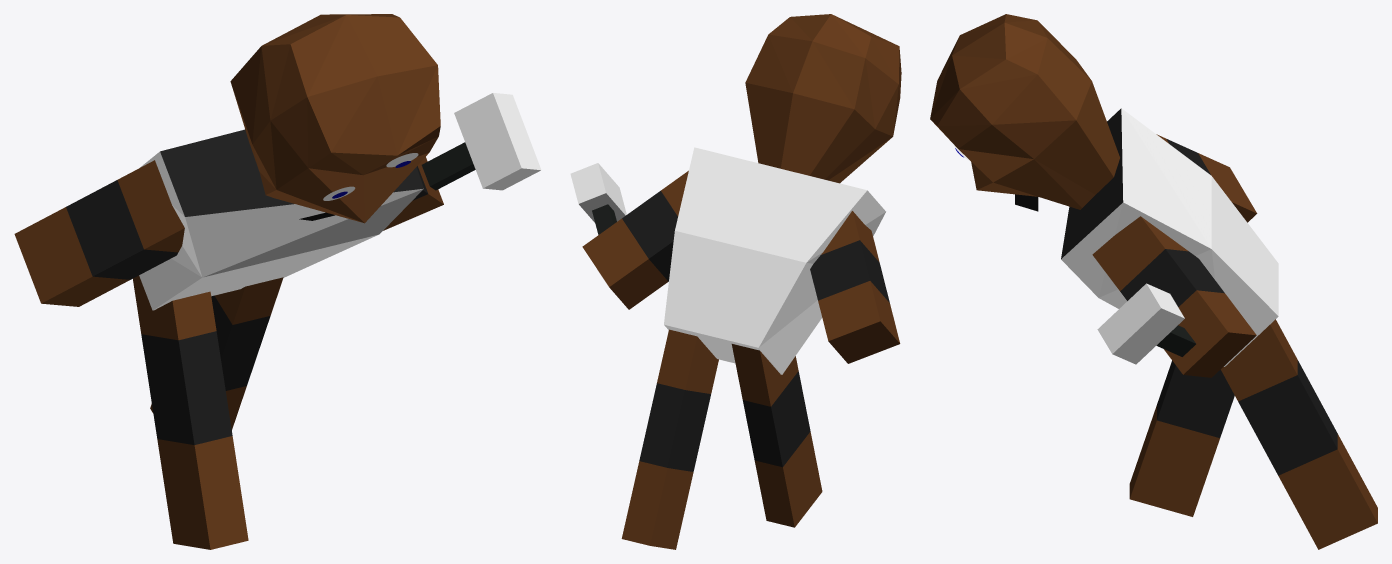
Rendered from slave1d.obj.
The picture shows the model from 3 angles, left to right: view 1: azimuth 30°, elevation 25°; view 2: azimuth 150°, elevation 25°; view 3: azimuth 270°, elevation 25°; orthographic projection. The views are drawn at different scales.
Visible parts, largest first — view 1: Cube, Cube.001, Cube.004, Cube.003, Cube.008, Cube.005, Cube.007, Cube.002; view 2: Cube.001, Cube, Cube.005, Cube.004, Cube.003, Cube.002, Cube.008, Cube.007; view 3: Cube, Cube.001, Cube.005, Cube.002, Cube.004, Cube.008, Cube.003, Cube.007.
Boxes of the visible parts, x1,y1,x2,y2 form: Cube: (230, 14, 440, 223); Cube.001: (139, 129, 423, 310); Cube.004: (133, 275, 248, 549); Cube.003: (14, 160, 184, 306); Cube.008: (454, 93, 541, 190); Cube.005: (150, 277, 283, 430); Cube.007: (421, 142, 475, 190); Cube.002: (383, 157, 443, 230); Cube.001: (664, 147, 885, 374); Cube: (745, 14, 901, 183); Cube.005: (621, 329, 718, 549); Cube.004: (731, 344, 822, 527); Cube.003: (810, 211, 900, 363); Cube.002: (582, 170, 688, 309); Cube.008: (570, 163, 626, 222); Cube.007: (592, 204, 616, 234); Cube: (930, 14, 1119, 209); Cube.001: (1061, 108, 1278, 366); Cube.005: (1221, 319, 1377, 549); Cube.002: (1092, 216, 1256, 377); Cube.004: (1129, 360, 1234, 516); Cube.008: (1097, 283, 1184, 364); Cube.003: (1156, 134, 1257, 222); Cube.007: (1156, 325, 1195, 356).
Size of the model in its own units: 4.16 by 5.17 by 4.16.
